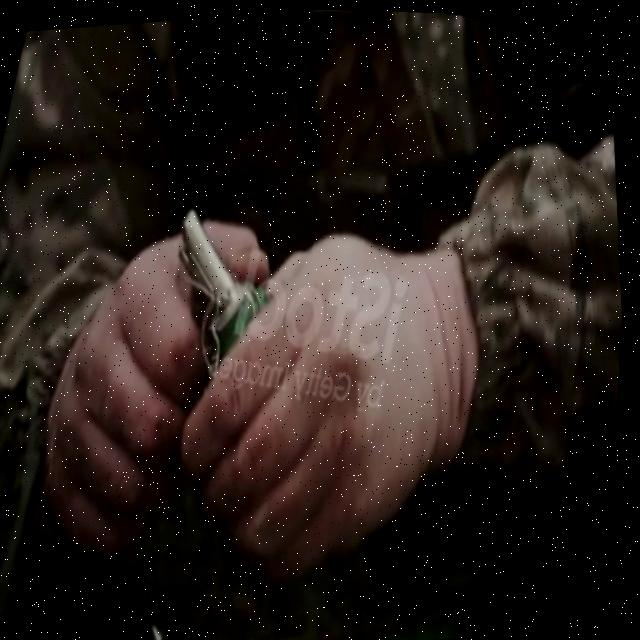grenade: (134, 191, 288, 371)
